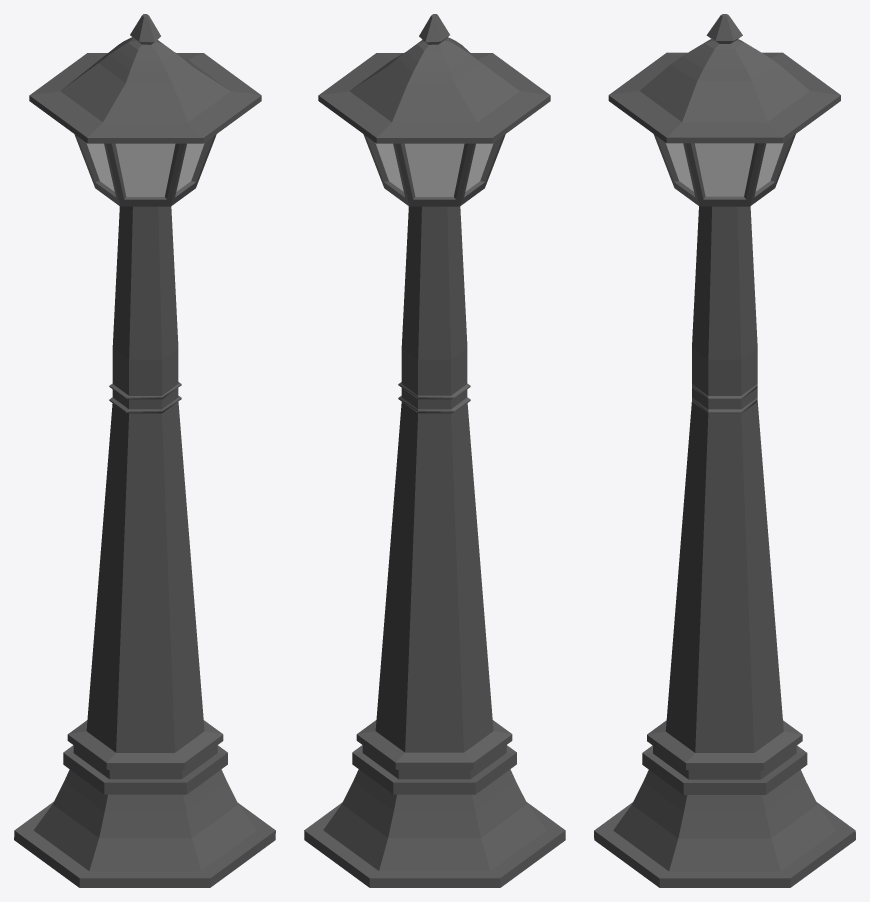
Rendered from Laterne.obj.
3 renders of one model, left to right at view 1: azimuth 30°, elevation 25°; view 2: azimuth 150°, elevation 25°; view 3: azimuth 270°, elevation 25°, orthographic.
Parts seen in each view (by area): view 1: Cylinder_Cylinder_Material.001, Cylinder_Cylinder_Material.002; view 2: Cylinder_Cylinder_Material.001, Cylinder_Cylinder_Material.002; view 3: Cylinder_Cylinder_Material.001, Cylinder_Cylinder_Material.002.
Boxes of the visible parts, x1,y1,x2,y2 form: Cylinder_Cylinder_Material.001: (14, 14, 275, 887); Cylinder_Cylinder_Material.002: (86, 143, 204, 196); Cylinder_Cylinder_Material.001: (304, 14, 565, 887); Cylinder_Cylinder_Material.002: (375, 143, 493, 196); Cylinder_Cylinder_Material.001: (594, 14, 855, 887); Cylinder_Cylinder_Material.002: (666, 143, 783, 196).
Size of the model in its own units: 1.06 by 4.26 by 1.22.
Materials: 2 (2 with a texture image).
